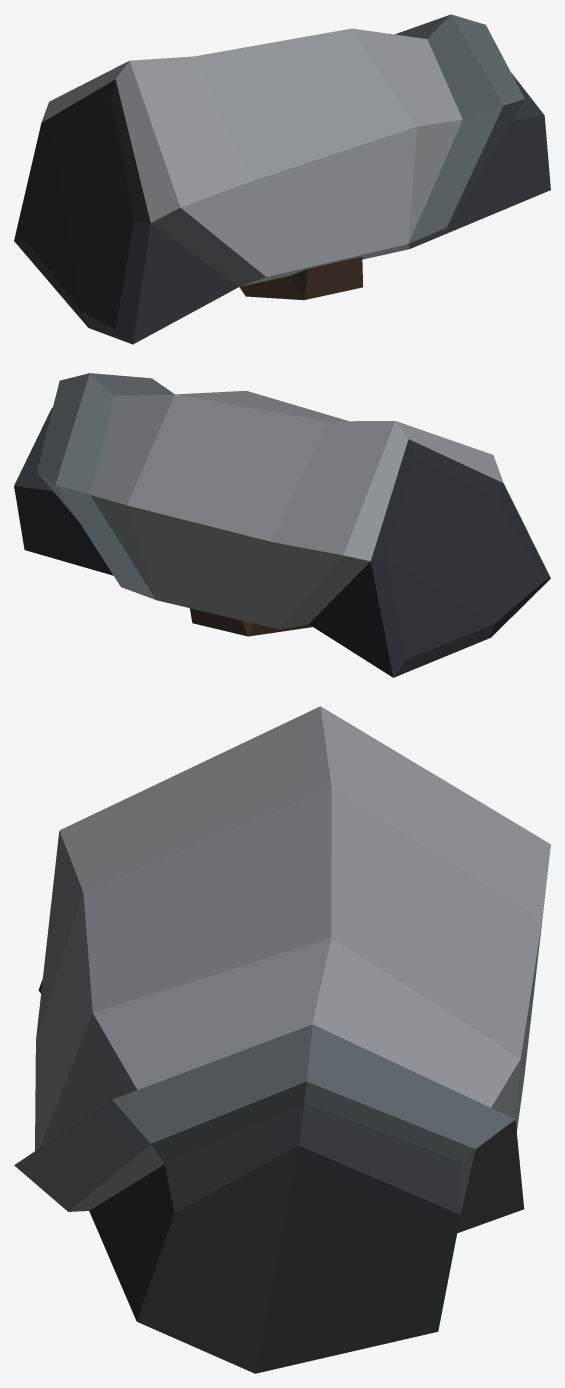
Rendered from Chr_ArmUpperLeft_Male_08_Static.fbx.
The picture shows the model from 3 angles, top to bottom: view 1: azimuth 30°, elevation 25°; view 2: azimuth 150°, elevation 25°; view 3: azimuth 270°, elevation 25°; orthographic projection. The views are drawn at different scales.
Parts seen in each view (by area): view 1: Chr_ArmUpperLeft_Male_08_Static; view 2: Chr_ArmUpperLeft_Male_08_Static; view 3: Chr_ArmUpperLeft_Male_08_Static.
Part boxes in pixels (x1=…): Chr_ArmUpperLeft_Male_08_Static: x1=14, y1=14, x2=550, y2=344; Chr_ArmUpperLeft_Male_08_Static: x1=14, y1=373, x2=550, y2=677; Chr_ArmUpperLeft_Male_08_Static: x1=14, y1=706, x2=550, y2=1373.
Bounding box in the file's own units: 0.3244 × 0.1699 × 0.1927.
